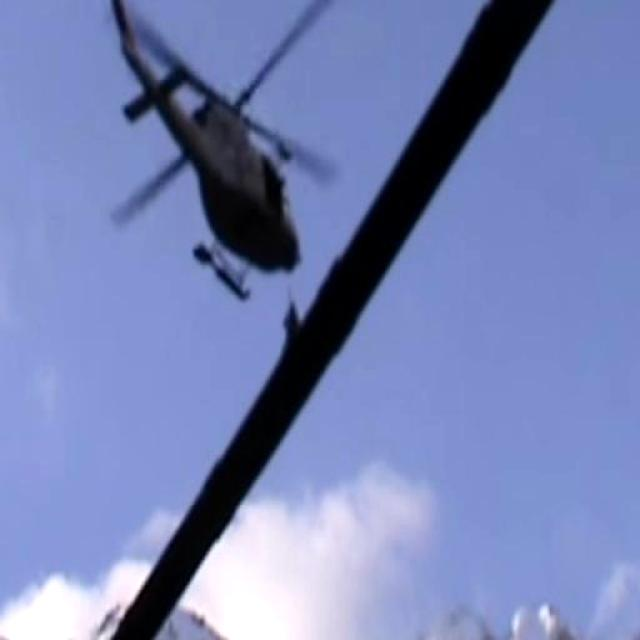drone: (105, 0, 345, 309)
